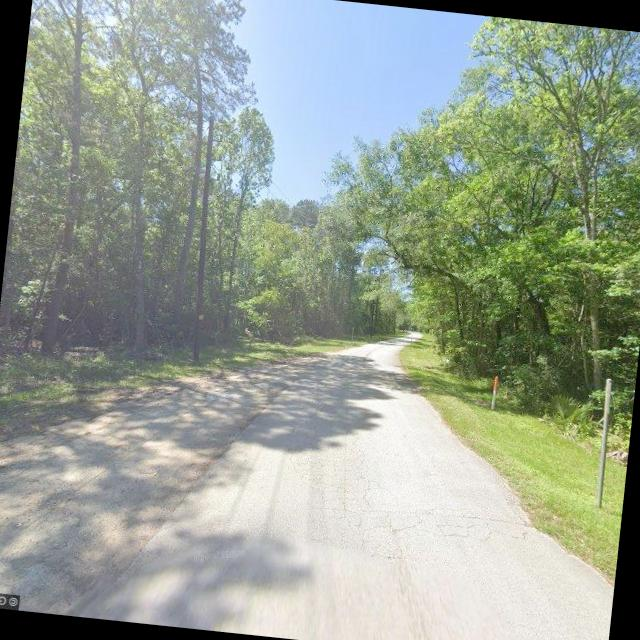crack: (275, 420, 537, 570)
